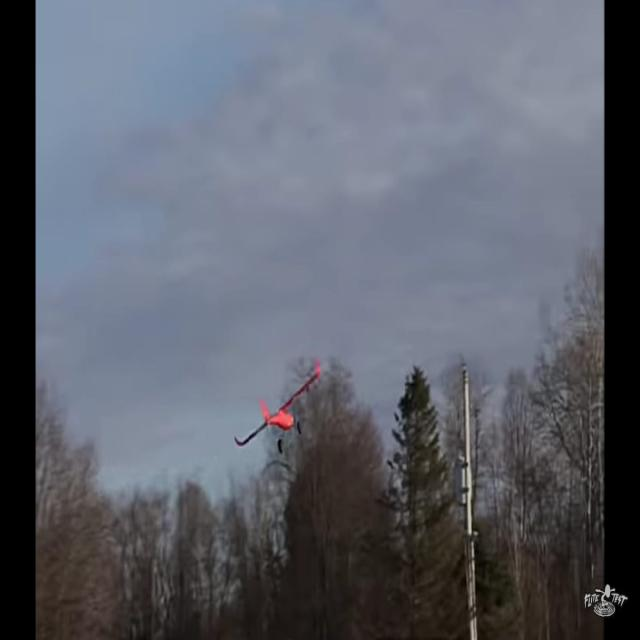iha: (266, 388, 289, 424)
